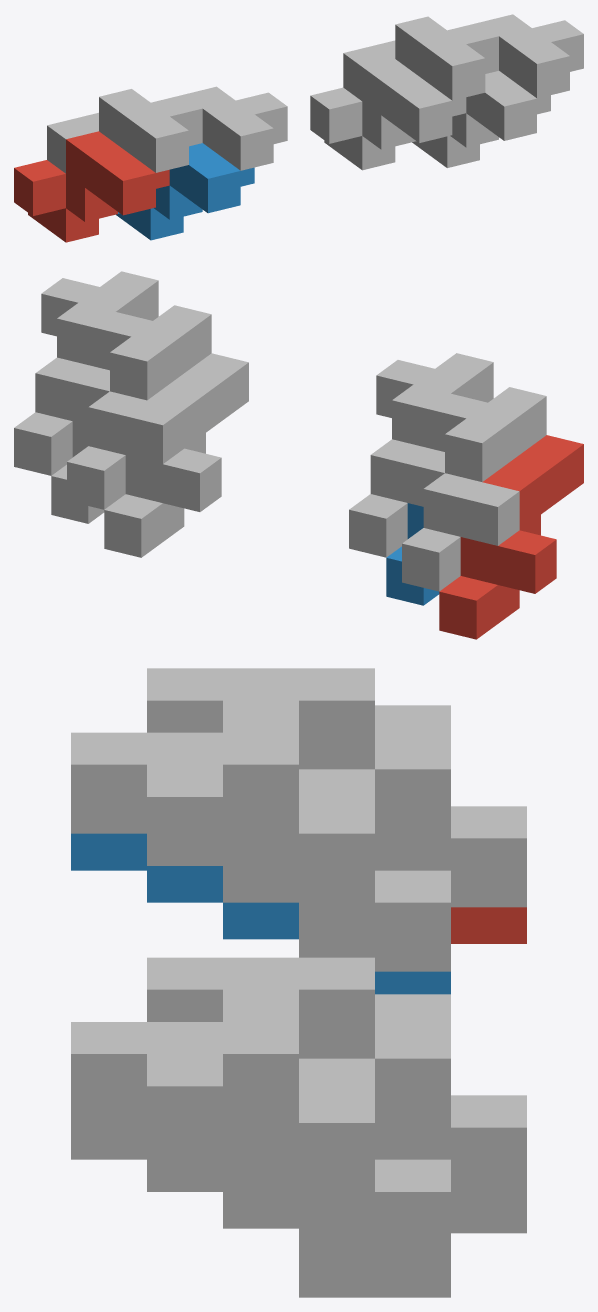
The model's file is tiling.obj.
3 renders of one model, top to bottom at view 1: azimuth 30°, elevation 25°; view 2: azimuth 150°, elevation 25°; view 3: azimuth 270°, elevation 25°, orthographic. The views are drawn at different scales.
Parts seen in each view (by area): view 1: copy_1_domain_5, copy_1_domain_1, copy_1_domain_7, copy_1_domain_3, copy_1_domain_2, copy_1_domain_6, copy_1_domain_4, copy_1_domain_8; view 2: copy_1_domain_3, copy_1_domain_7, copy_1_domain_1, copy_1_domain_5, copy_1_domain_4, copy_1_domain_8, copy_1_domain_6, copy_1_domain_2; view 3: copy_1_domain_8, copy_1_domain_4, copy_1_domain_3, copy_1_domain_7, copy_1_domain_6, copy_1_domain_2, copy_1_domain_5, copy_1_domain_1.
Part boxes in pixels (x1,y1,x2,y2): copy_1_domain_5: (310,59,466,170); copy_1_domain_1: (14,131,169,242); copy_1_domain_7: (343,16,498,100); copy_1_domain_3: (47,89,202,173); copy_1_domain_2: (116,143,254,240); copy_1_domain_6: (412,71,550,167); copy_1_domain_4: (184,86,287,170); copy_1_domain_8: (480,14,583,98); copy_1_domain_3: (402,387,546,591); copy_1_domain_7: (67,305,211,509); copy_1_domain_1: (439,435,583,639); copy_1_domain_5: (104,353,248,557); copy_1_domain_4: (349,353,493,557); copy_1_domain_8: (14,271,158,475); copy_1_domain_6: (51,421,104,523); copy_1_domain_2: (386,503,439,605); copy_1_domain_8: (71,1022,450,1260); copy_1_domain_4: (71,732,450,971); copy_1_domain_3: (147,668,526,907); copy_1_domain_7: (147,957,526,1196); copy_1_domain_6: (71,1123,450,1297); copy_1_domain_2: (71,833,450,994); copy_1_domain_5: (451,1196,526,1233); copy_1_domain_1: (451,907,526,943).
Bounding box in the file's own units: 15 × 4 × 6.
